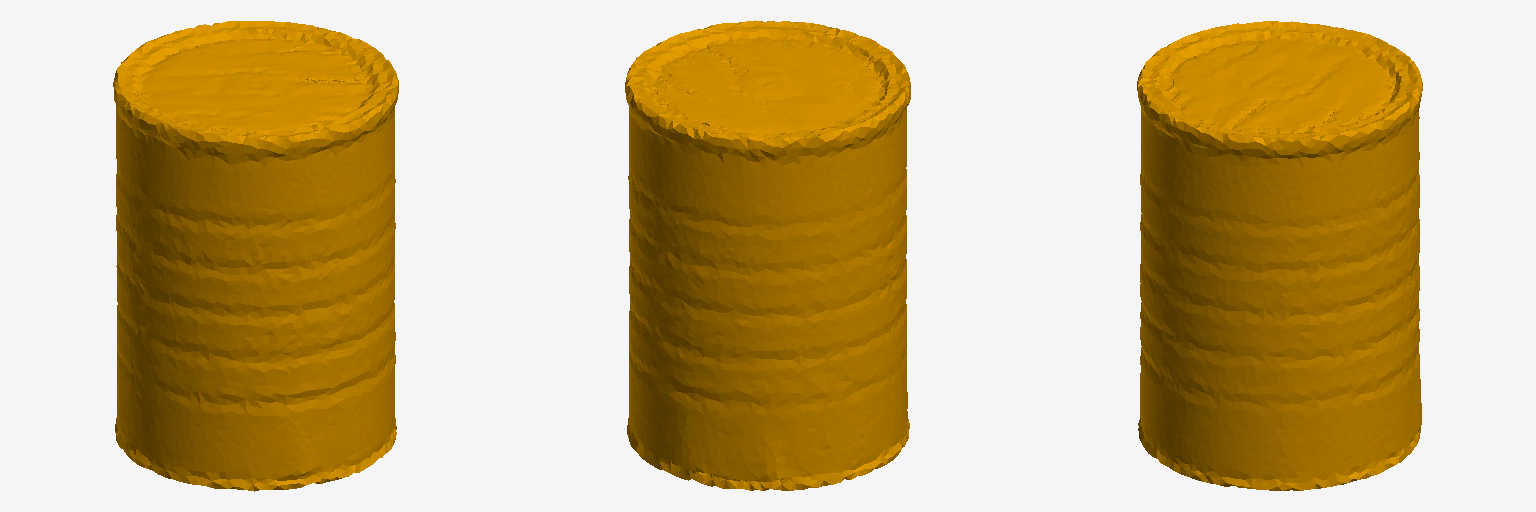
The robot description file, URDF, robot "model.urdf":
<?xml version="0.0" ?>
<robot name="model.urdf">
  <link name="baseLink">
    <contact>
      <lateral_friction value="1.0"/>
      <rolling_friction value="0.0"/>
      <contact_cfm value="0.0"/>
      <contact_erp value="1.0"/>
    </contact>
    <inertial>
       <mass value=".404"/>
       <inertia ixx="1e-3" ixy="0" ixz="0" iyy="1e-3" iyz="0" izz="1e-3"/>
    </inertial>
    <visual>
      <geometry>
        <mesh filename="textured_simple_reoriented.obj" scale="1 1 1"/>
      </geometry>
    </visual>
    <collision>
      <geometry>
    	 	<mesh filename="collision_vhacd.obj" scale="1 1 1"/>
      </geometry>
    </collision>
  </link>
</robot>

--- What the picture shows (computed from the rendered views, not written in the file) ---
3 views of the same robot in one strip: view 1: azimuth 30°, elevation 25°; view 2: azimuth 150°, elevation 25°; view 3: azimuth 270°, elevation 25° (orthographic).
Model model.urdf with 1 links and 0 joints (none), rooted at baseLink, posed all joints at 0.
Links seen in each view (by area): view 1: baseLink; view 2: baseLink; view 3: baseLink.
Boxes of the visible links, x1,y1,x2,y2 form: baseLink: (113, 21, 398, 491); baseLink: (625, 20, 910, 490); baseLink: (1137, 21, 1422, 490).
Bounding box of the posed robot: 0.1023 × 0.1024 × 0.1401 m (x, y, z).
Meshes: 1 distinct files referenced, 1 mesh visuals loaded (1 OBJ).